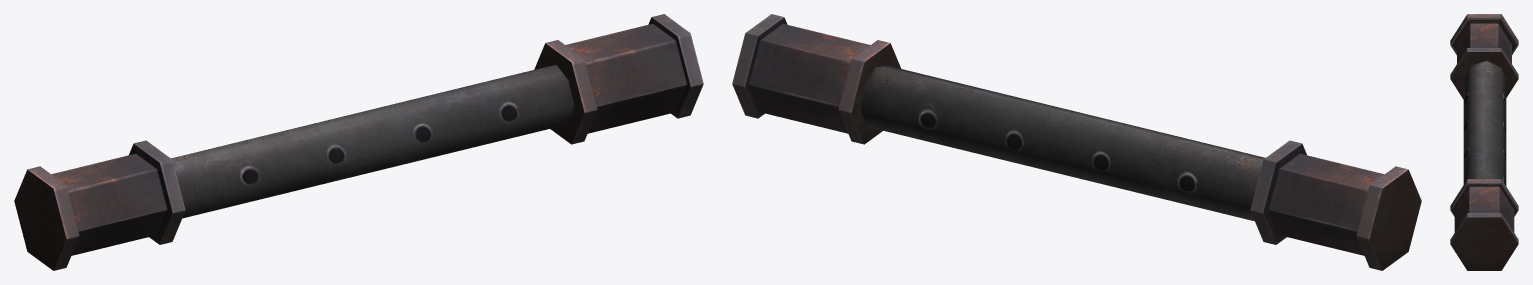
File: SV_AFT_desert_guanzi_0.FBX
3 views of the same model, side by side, from view 1: azimuth 30°, elevation 25°; view 2: azimuth 150°, elevation 25°; view 3: azimuth 270°, elevation 25° (orthographic). The views are drawn at different scales.
Parts seen in each view (by area): view 1: SV_AFT_desert_guanzi_0; view 2: SV_AFT_desert_guanzi_0; view 3: SV_AFT_desert_guanzi_0.
Part boxes in pixels (x1=…): SV_AFT_desert_guanzi_0: x1=14, y1=14, x2=703, y2=270; SV_AFT_desert_guanzi_0: x1=732, y1=14, x2=1421, y2=270; SV_AFT_desert_guanzi_0: x1=1450, y1=14, x2=1518, y2=270.
Size of the model in its own units: 4.9 by 0.6052 by 0.6986.
